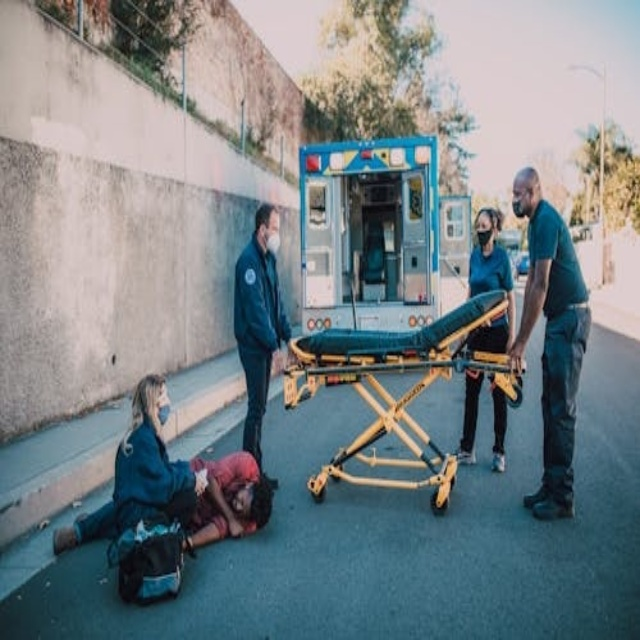Mascara: (474, 221, 499, 252), (260, 227, 282, 256), (154, 400, 170, 425), (511, 194, 530, 215)
Sin_guantes: (506, 351, 528, 375), (271, 348, 287, 376)
